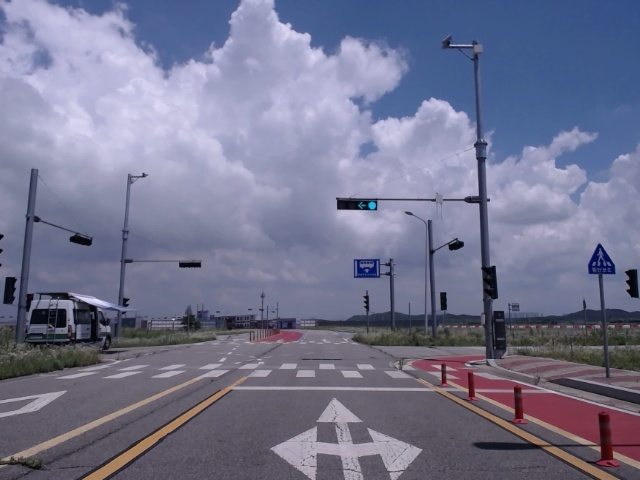all_green_4: (336, 197, 378, 210)
